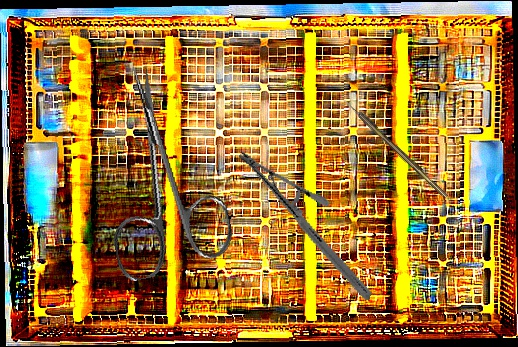Hook Surgical: (341, 96, 450, 200)
Iris Scissors: (79, 54, 238, 284)
Needle Holder: (208, 150, 402, 301)
